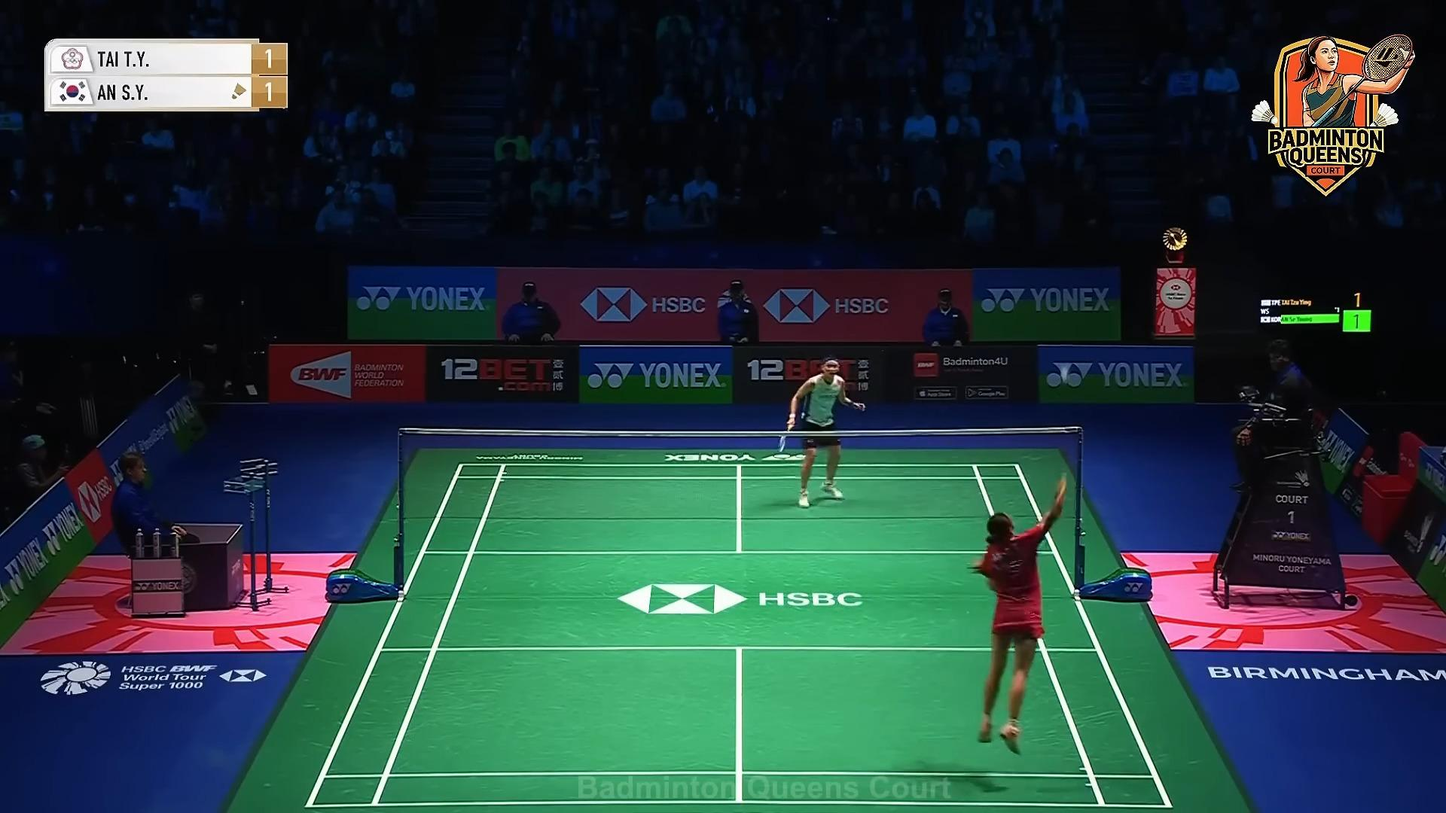player: (973, 478, 1063, 756), (783, 355, 865, 509)
